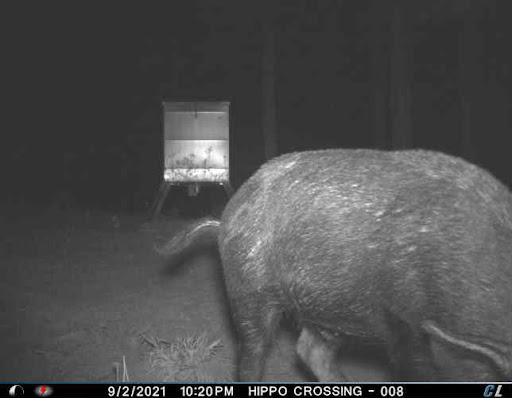Hog: (176, 147, 512, 381)
